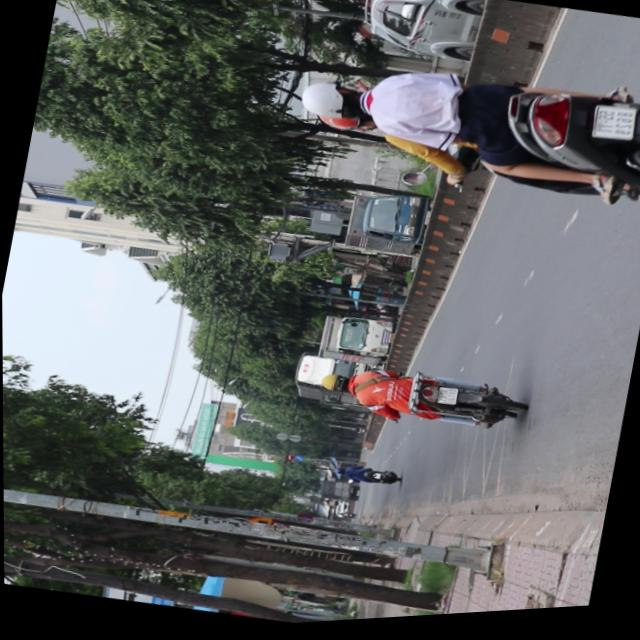helmet: (296, 76, 372, 130), (308, 108, 378, 143), (316, 373, 349, 398)
licenseplate: (284, 29, 640, 238), (312, 351, 526, 452)
nohelmet: (588, 108, 637, 152), (435, 391, 457, 411)
